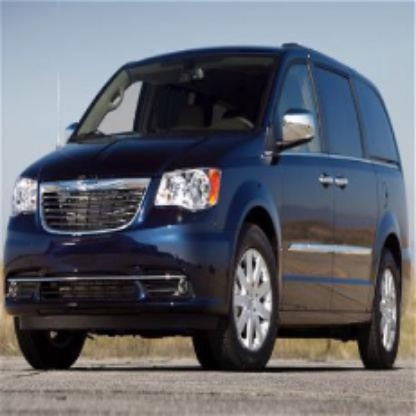Vehicle: (2, 42, 415, 378)
